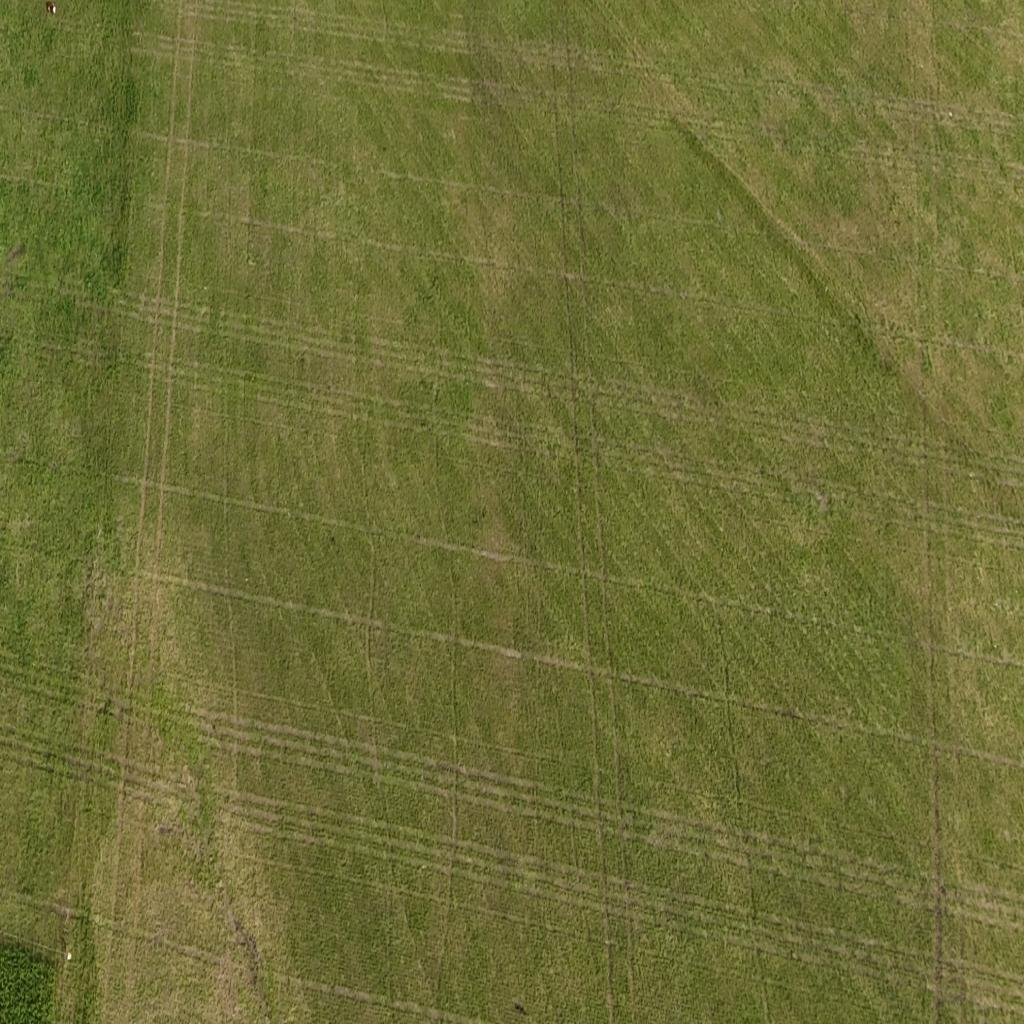cow: (44, 1, 59, 19)
